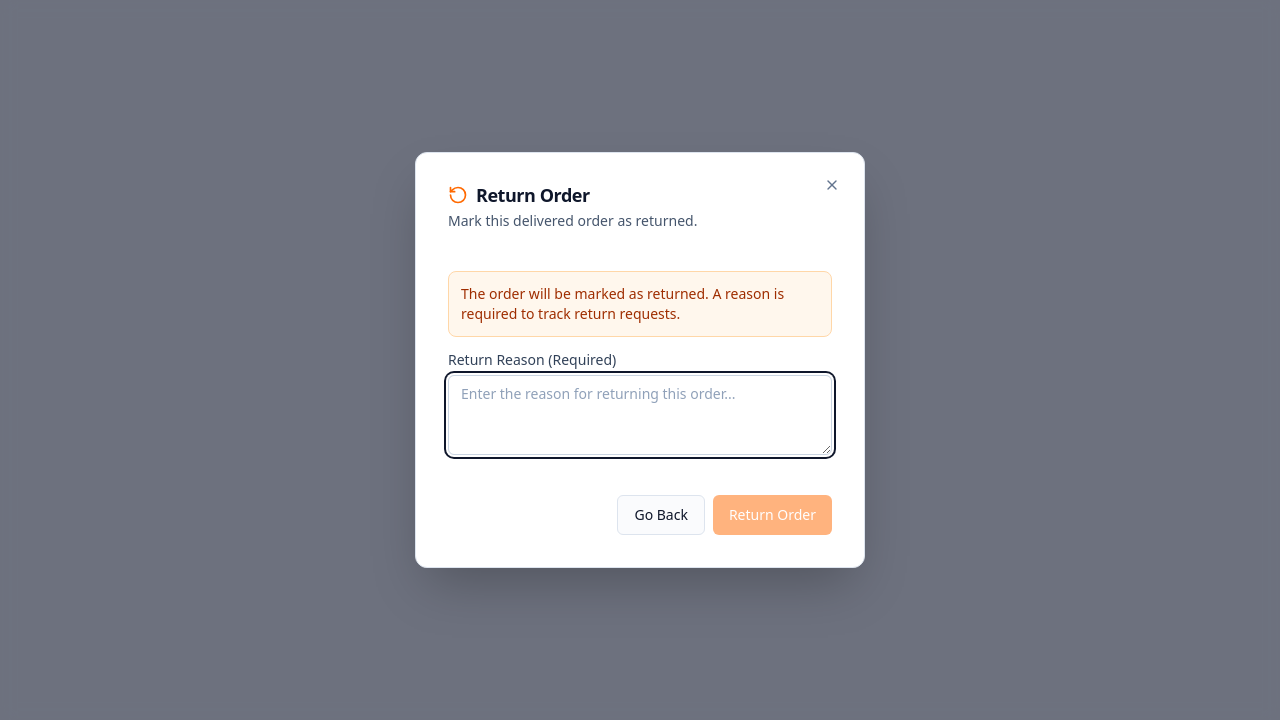
Scenario: ReturnOrderDialog Component › Submit Button › submit button is enabled when reason has text
The width and height of the screenshot is (1280, 720).
In the text box with placeholder "Enter the reason for returning this order...": (640, 415) x1=448 y1=375 x2=832 y2=455, type "Damaged package"
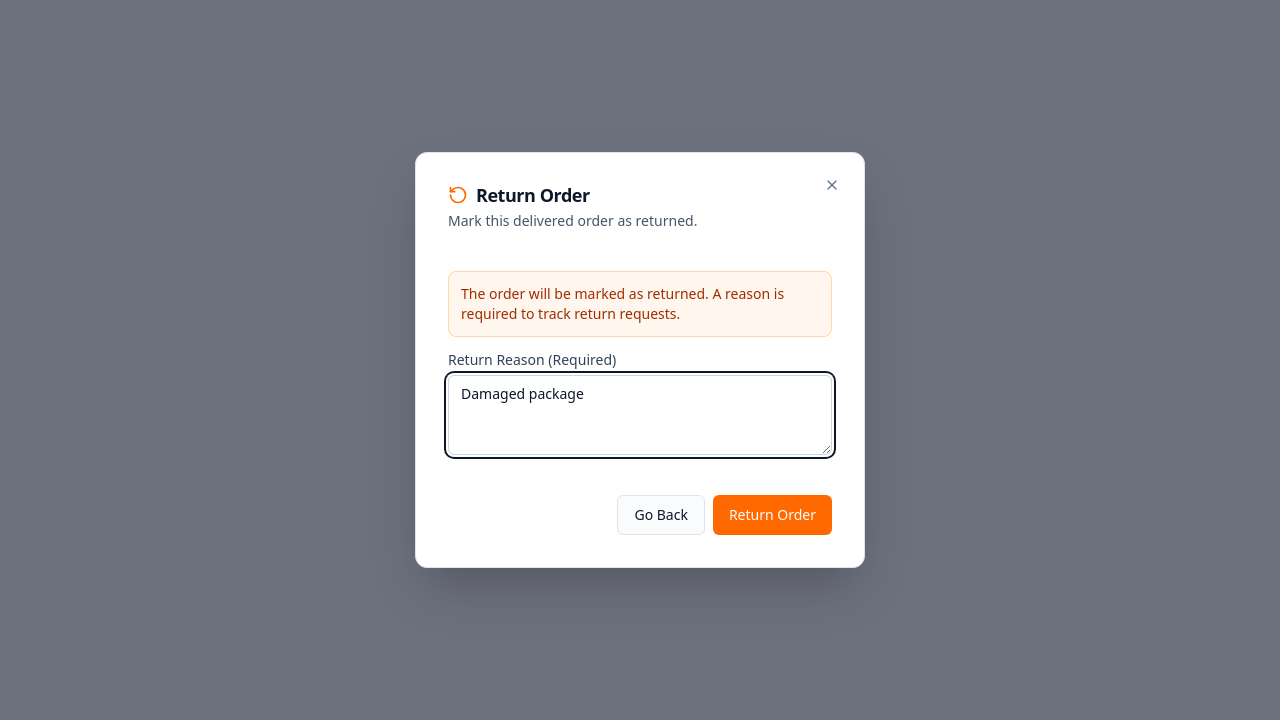
Result: the button "Return Order" is enabled at x1=713 y1=495 x2=832 y2=535
